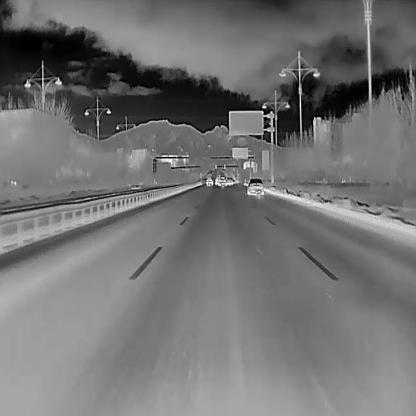car: (247, 178, 264, 195), (219, 176, 227, 188), (205, 175, 213, 187), (215, 173, 221, 185), (226, 177, 232, 186), (232, 178, 236, 184)
